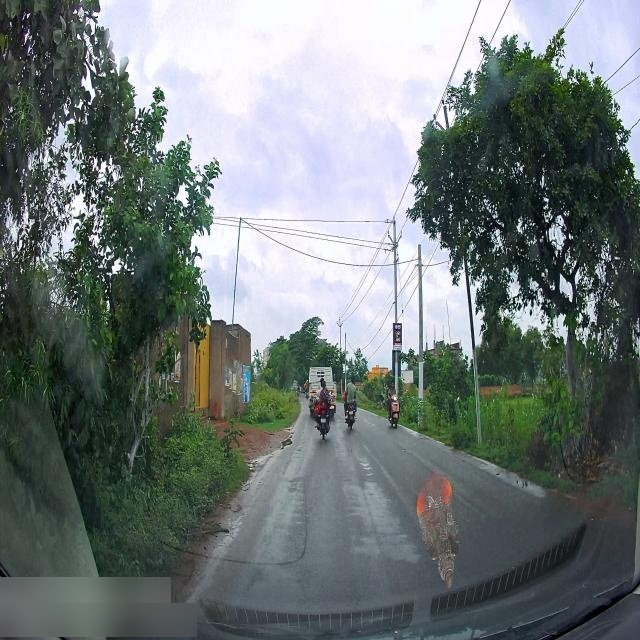pothole: (512, 477, 545, 498), (359, 458, 378, 477), (250, 452, 266, 469), (490, 467, 504, 480), (279, 438, 292, 448), (295, 442, 304, 453)
